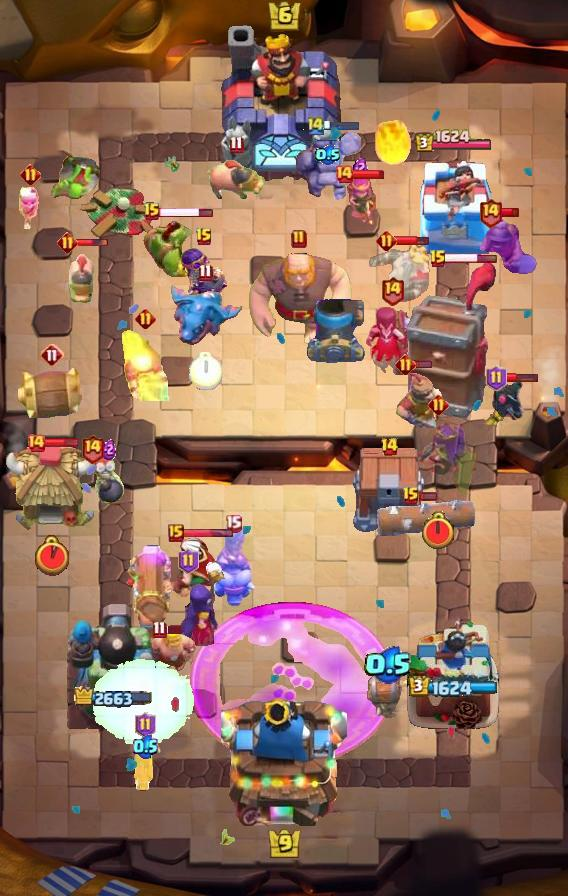archer: (340, 177, 380, 227)
bar: (159, 206, 214, 219), (444, 253, 498, 264), (182, 528, 234, 539), (394, 234, 430, 247), (324, 120, 360, 131), (44, 437, 79, 448), (504, 372, 539, 383), (351, 169, 385, 180), (75, 238, 109, 248), (164, 624, 184, 635), (419, 491, 438, 502), (501, 207, 520, 218), (414, 359, 433, 369)
bar-level: (80, 433, 105, 464), (380, 275, 405, 306), (478, 197, 503, 228), (40, 343, 64, 367), (135, 712, 156, 738), (178, 548, 199, 574), (486, 365, 507, 391), (428, 394, 449, 415), (395, 354, 416, 375), (135, 308, 156, 329), (57, 232, 78, 253), (376, 230, 397, 251), (20, 164, 41, 185), (306, 115, 326, 136), (26, 433, 46, 453), (334, 164, 354, 184), (380, 437, 399, 457), (402, 486, 420, 506), (429, 249, 447, 269), (195, 227, 213, 247), (143, 202, 161, 222), (225, 514, 242, 533), (291, 229, 307, 249), (168, 524, 184, 542), (152, 620, 167, 639), (198, 263, 213, 282), (229, 135, 244, 154)
barbarian: (144, 627, 196, 671)
barbarian-barrel: (15, 367, 89, 419)
bomber: (91, 453, 127, 509)
bomber-evolution: (179, 247, 229, 301)
cannoneer-tower: (64, 601, 164, 731)
clock: (420, 511, 456, 551), (35, 535, 69, 576), (189, 352, 222, 390)
electro-dragon: (166, 282, 244, 346)
elixir: (364, 646, 413, 684), (133, 734, 158, 759), (315, 145, 341, 165), (353, 156, 368, 179), (102, 438, 116, 460)
goblin-ball: (47, 154, 101, 202)
goblin-brawler: (138, 217, 194, 277)
golemite: (295, 129, 361, 201)
king-tower: (219, 21, 349, 181), (221, 690, 347, 826)
little-prince: (127, 730, 163, 796)
miner: (476, 211, 540, 275)
mini-pekka: (489, 375, 527, 425)
mortar: (305, 299, 365, 363)
night-witch: (363, 305, 421, 377)
queen-tower: (404, 617, 502, 731), (407, 158, 499, 256)
ram-rider: (211, 524, 255, 606)
royal-ghost: (366, 241, 432, 307)
royal-hog: (207, 158, 265, 202), (66, 248, 96, 304)
royal-recruit: (396, 368, 446, 428)
skeleton-evolution: (16, 187, 44, 229)
the-log: (374, 500, 476, 536)
tower-bar: (408, 675, 498, 698), (414, 129, 493, 154), (74, 686, 154, 710)
wall-breaker: (362, 673, 414, 719)
witch: (178, 559, 226, 650)
wizard: (119, 329, 171, 401)
